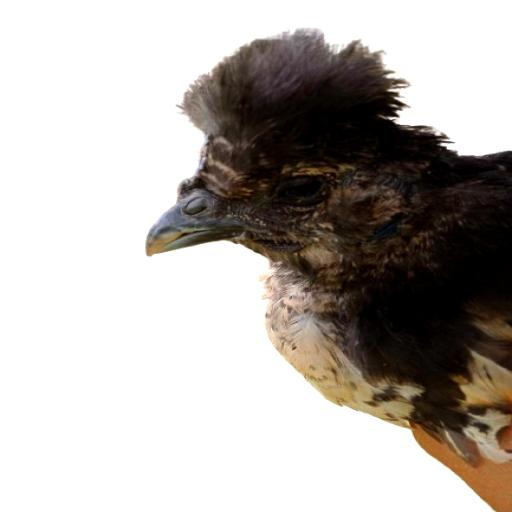disease: (133, 151, 374, 275)
